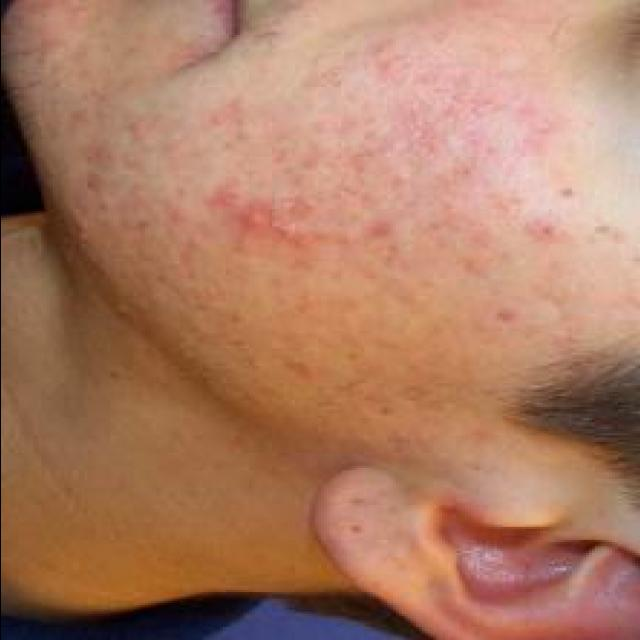Acne: (234, 200, 274, 233), (270, 221, 316, 249), (411, 124, 448, 158), (529, 214, 562, 244), (362, 217, 398, 243), (206, 190, 237, 210)
